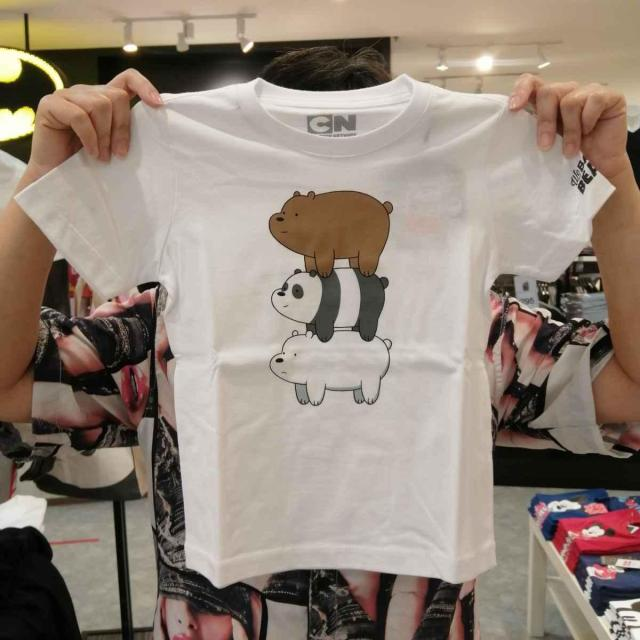Tshirt: (17, 79, 600, 579)
